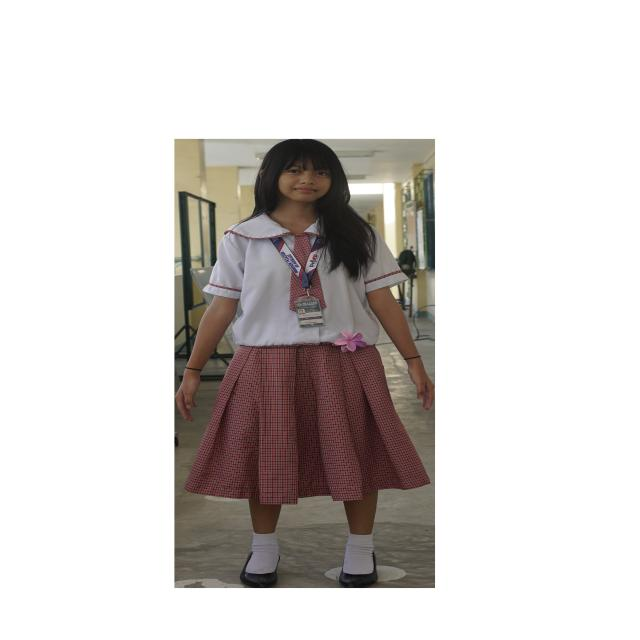id lace: (270, 237, 326, 294)
pologirl: (203, 214, 405, 346)
shoes: (338, 553, 378, 588), (240, 552, 277, 588)
skirt: (185, 345, 430, 504)
